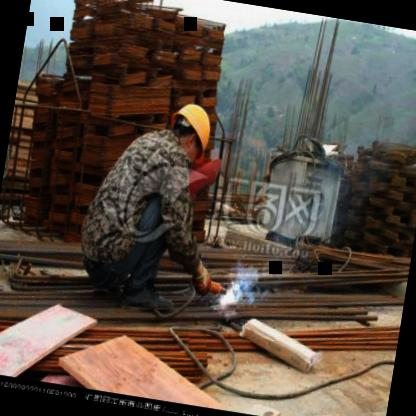helmet: (158, 93, 220, 168)
